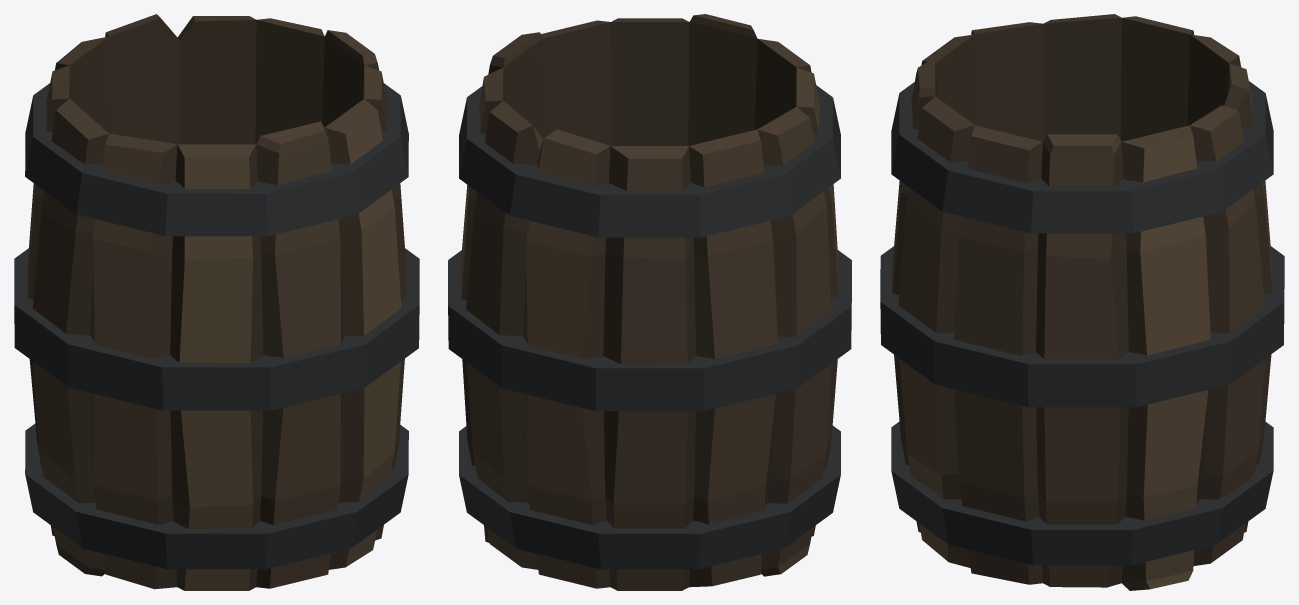
The model's file is forge_weapon_barrel.gltf.
3 views of the same model, side by side, from view 1: azimuth 30°, elevation 25°; view 2: azimuth 150°, elevation 25°; view 3: azimuth 270°, elevation 25° (orthographic).
Parts seen in each view (by area): view 1: forge_weapon_barrel; view 2: forge_weapon_barrel; view 3: forge_weapon_barrel.
Boxes of the visible parts, bbox=[...] form: forge_weapon_barrel: bbox=[14, 14, 419, 590]; forge_weapon_barrel: bbox=[448, 14, 851, 590]; forge_weapon_barrel: bbox=[880, 14, 1284, 590].
Bounding box in the file's own units: 0.7079 × 0.8834 × 0.7079.
1 material, 1 textured.
